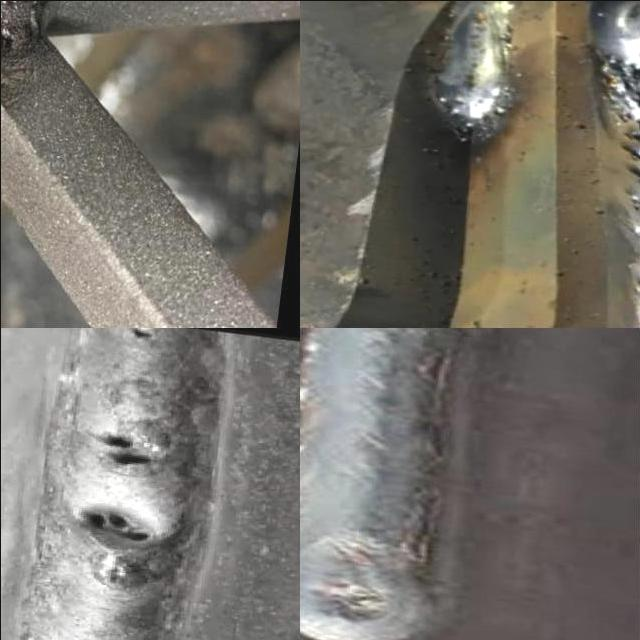defect: (72, 503, 159, 548), (86, 424, 163, 470), (126, 327, 158, 344)
